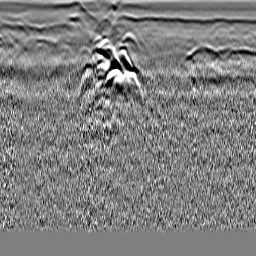cavity: (120, 29, 137, 48)
